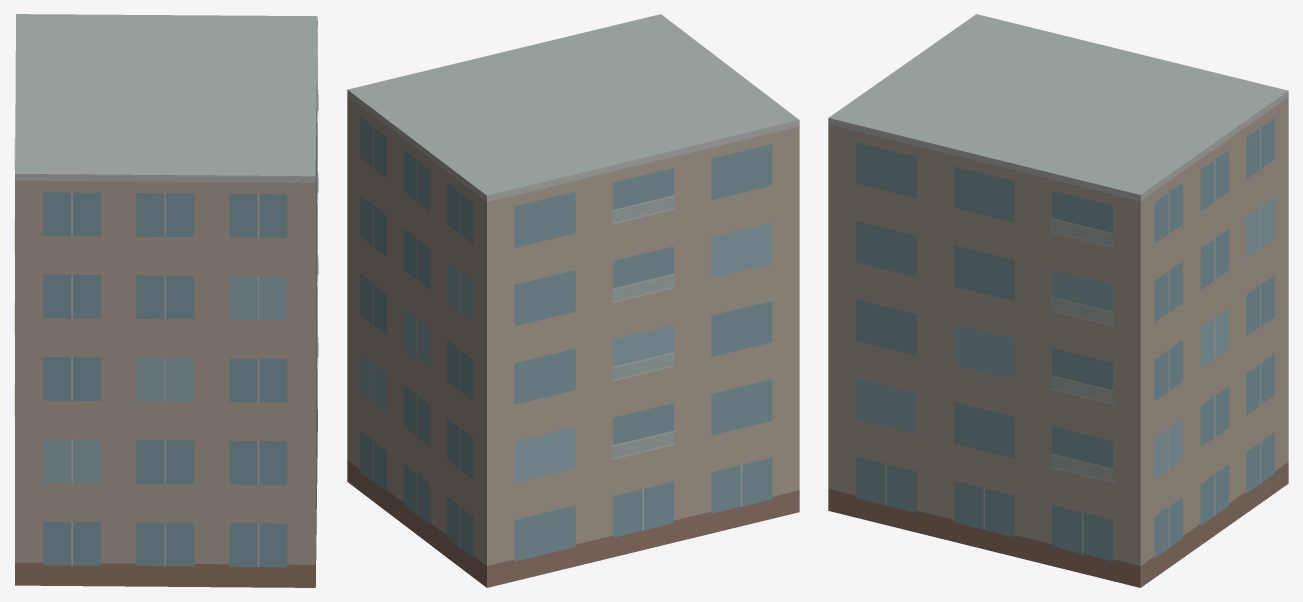
File: survey-upis-32878591.glb
The picture shows the model from 3 angles, left to right: view 1: azimuth 30°, elevation 25°; view 2: azimuth 150°, elevation 25°; view 3: azimuth 270°, elevation 25°; orthographic projection. The views are drawn at different scales.
Parts seen in each view (by area): view 1: survey-upis-32878591.tmp; view 2: survey-upis-32878591.tmp; view 3: survey-upis-32878591.tmp.
Part boxes in pixels (x1=…): survey-upis-32878591.tmp: x1=14, y1=14, x2=318, y2=587; survey-upis-32878591.tmp: x1=347, y1=14, x2=799, y2=587; survey-upis-32878591.tmp: x1=828, y1=14, x2=1288, y2=587.
Size of the model in its own units: 14.83 by 15 by 15.93.
